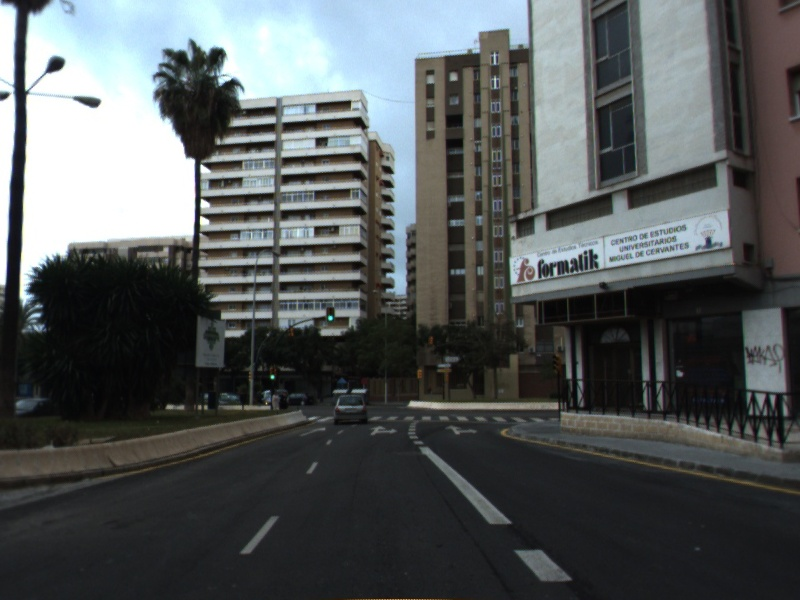STRAIGHT: (297, 425, 328, 438)
STRAIGHT_RIGHT: (443, 422, 480, 436), (367, 423, 400, 437)
